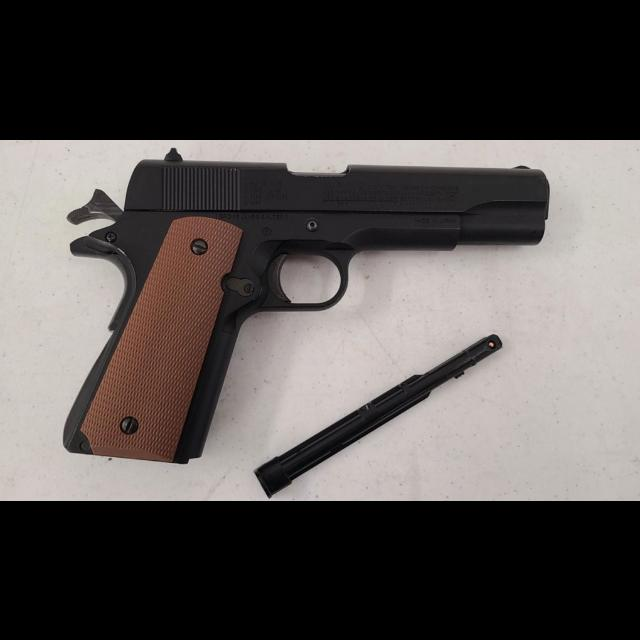handgun: (58, 144, 556, 468)
